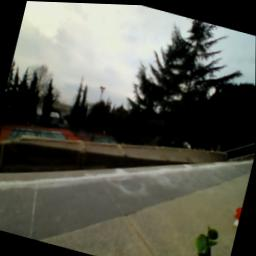herb: (191, 219, 228, 256)
